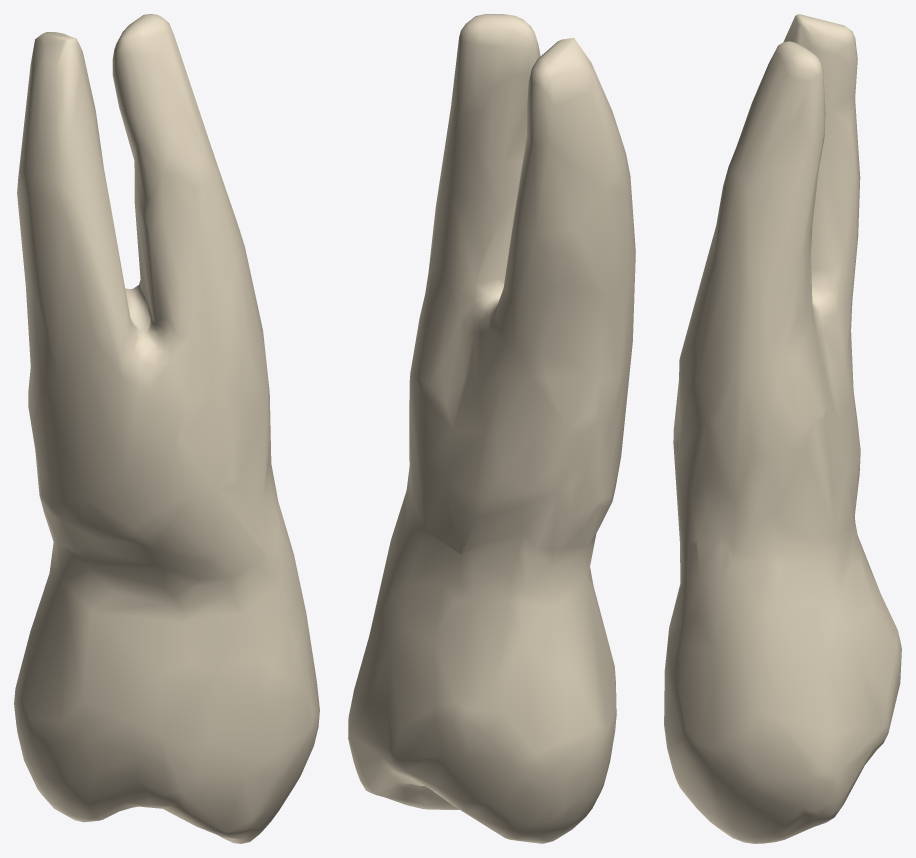
The model's file is upper-first-premolar-l.glb.
3 renders of one model, left to right at view 1: azimuth 30°, elevation 25°; view 2: azimuth 150°, elevation 25°; view 3: azimuth 270°, elevation 25°, orthographic. The views are drawn at different scales.
Visible parts, largest first — view 1: Upper first premolar.l; view 2: Upper first premolar.l; view 3: Upper first premolar.l.
Part boxes in pixels (x1,y1,x2,y2): Upper first premolar.l: [14, 14, 319, 843]; Upper first premolar.l: [348, 14, 635, 843]; Upper first premolar.l: [664, 14, 901, 843].
Bounding box in the file's own units: 0.00931 × 0.0277 × 0.00786.
